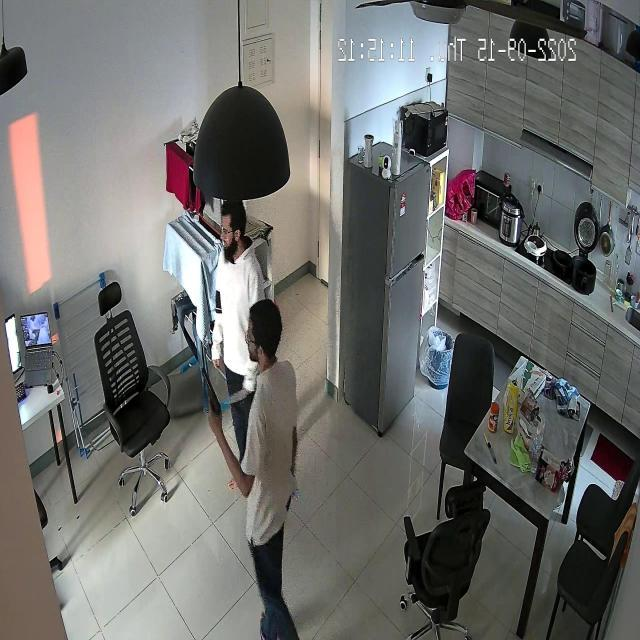Gun: (192, 374, 225, 428)
Knife: (213, 383, 256, 411)
